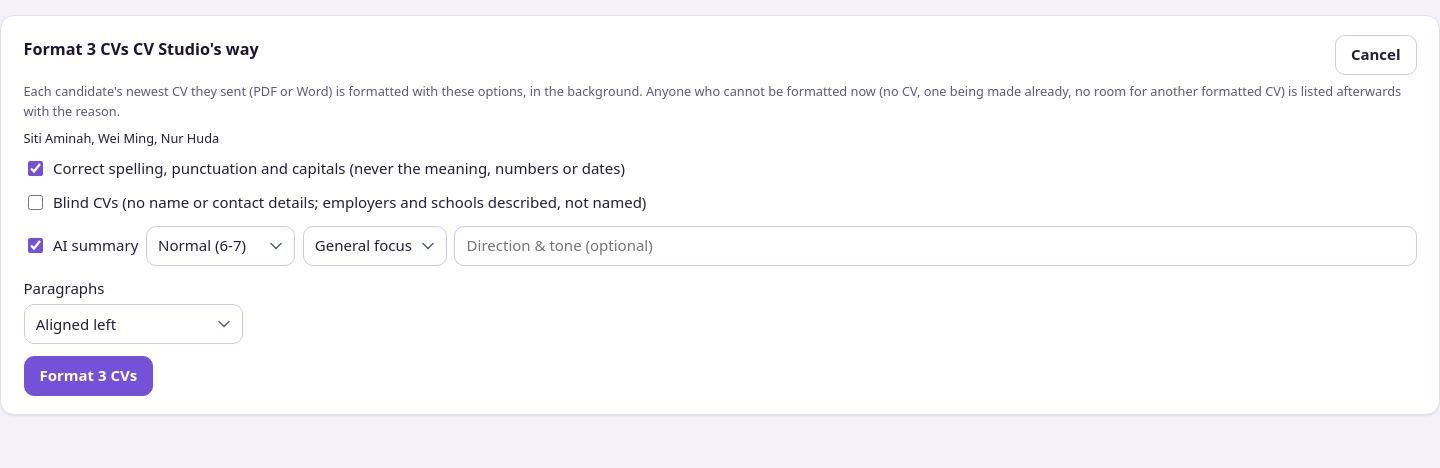
it: BatchFormat › formats everyone chosen with the same options, then says who was left out and why
expect the text "Siti Aminah, Wei Ming, Nur Huda" is shown: met, box left=24, top=129, right=219, bottom=147
Click the checkbox labelled "Blind CVs": (35, 203) left=28, top=195, right=42, bottom=210
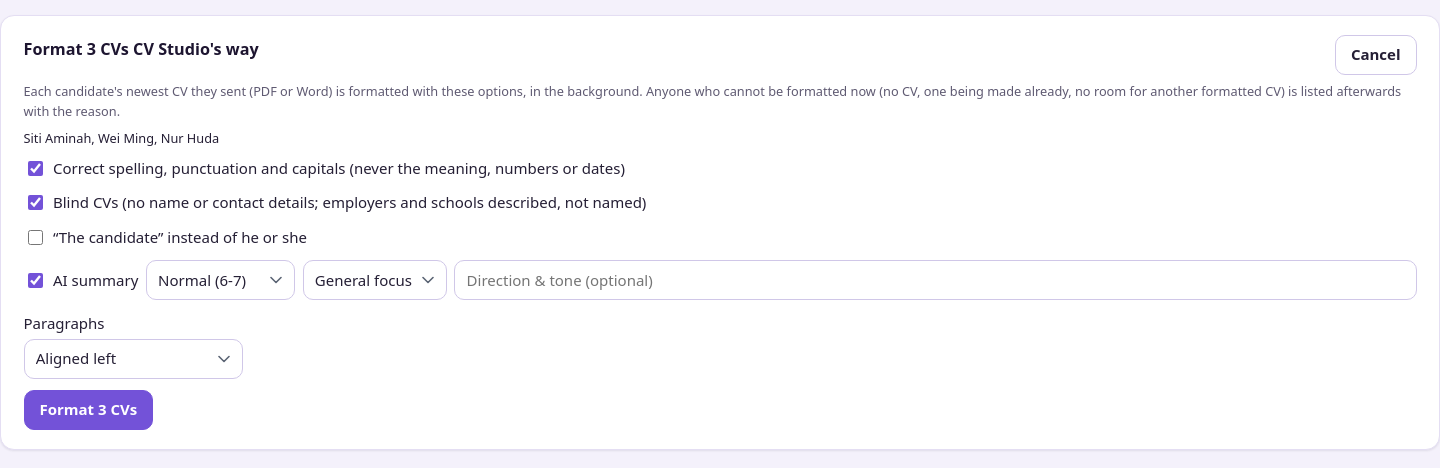
Click the checkbox labelled "“The candidate” instead of he or she": (35, 237) left=28, top=230, right=42, bottom=245
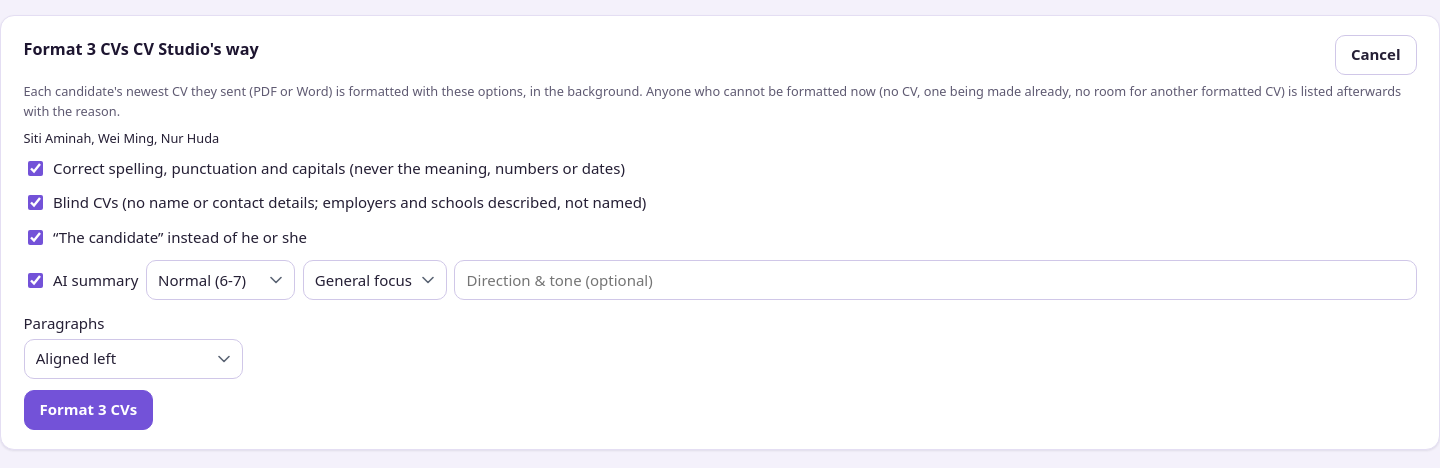
Select "Short (4-5)" in the dropdown named "Summary length": (220, 280) left=146, top=260, right=295, bottom=300
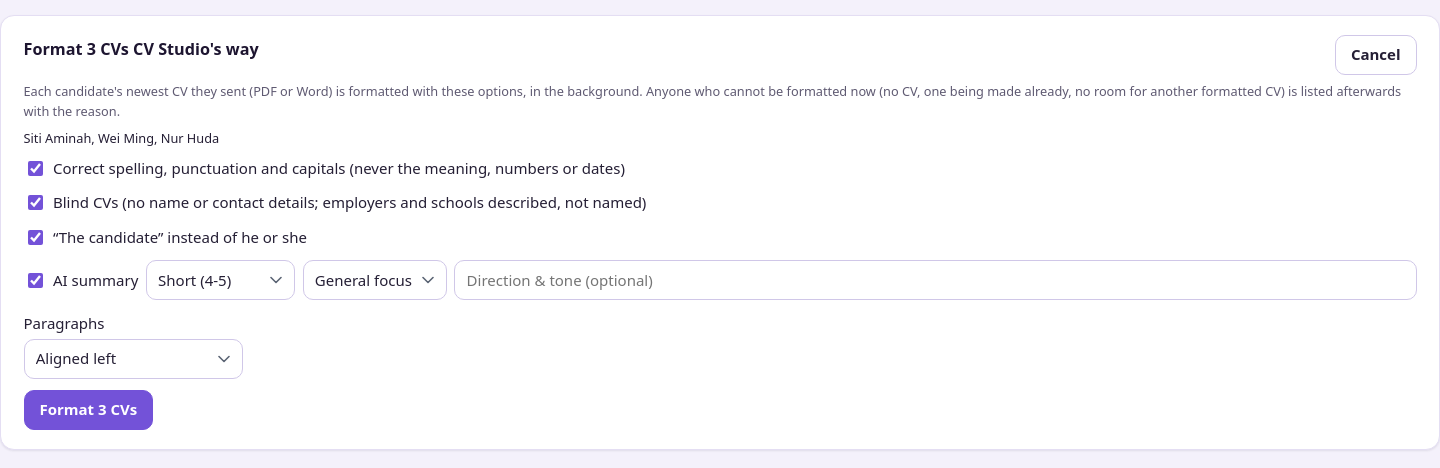
Click the button "Format 3 CVs": (88, 410) left=24, top=390, right=153, bottom=430
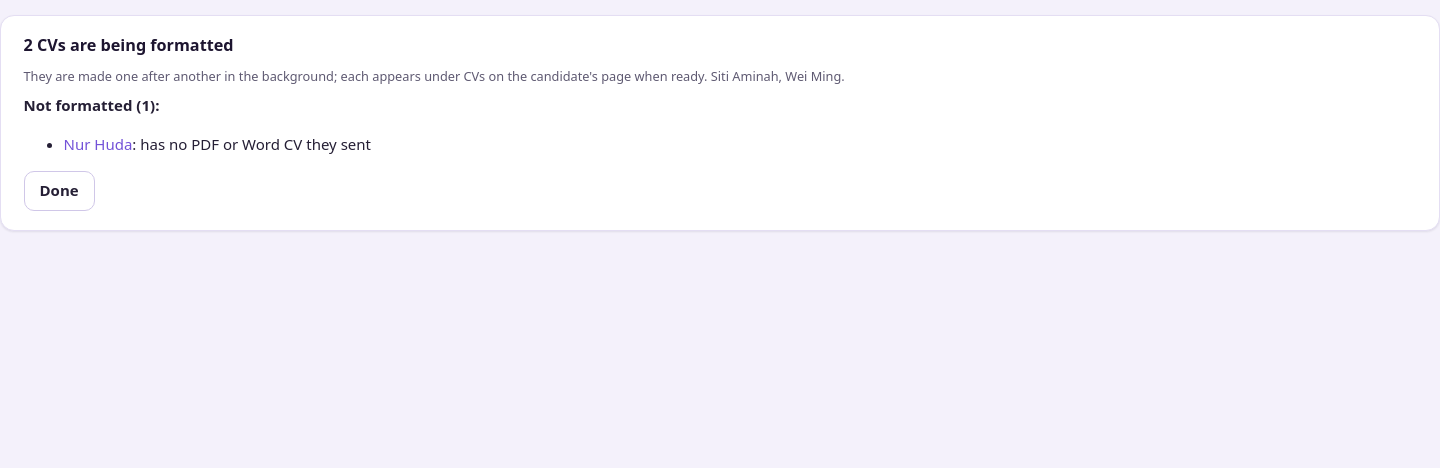
expect the heading "2 CVs are being formatted" is shown: met, box left=24, top=34, right=234, bottom=56
expect the list item "Nur Huda" shows "has no PDF or Word CV they sent": met, box left=140, top=134, right=371, bottom=154
